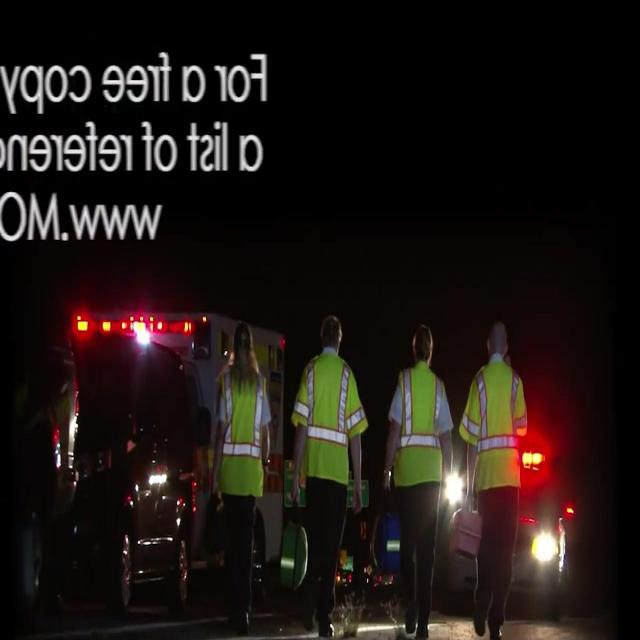Reflective-Jacket: (289, 353, 373, 517), (458, 359, 536, 516), (382, 360, 454, 504), (212, 366, 276, 513)
Safety-Helmet: (480, 310, 518, 369), (406, 313, 442, 371), (226, 311, 262, 366), (312, 305, 350, 356)
